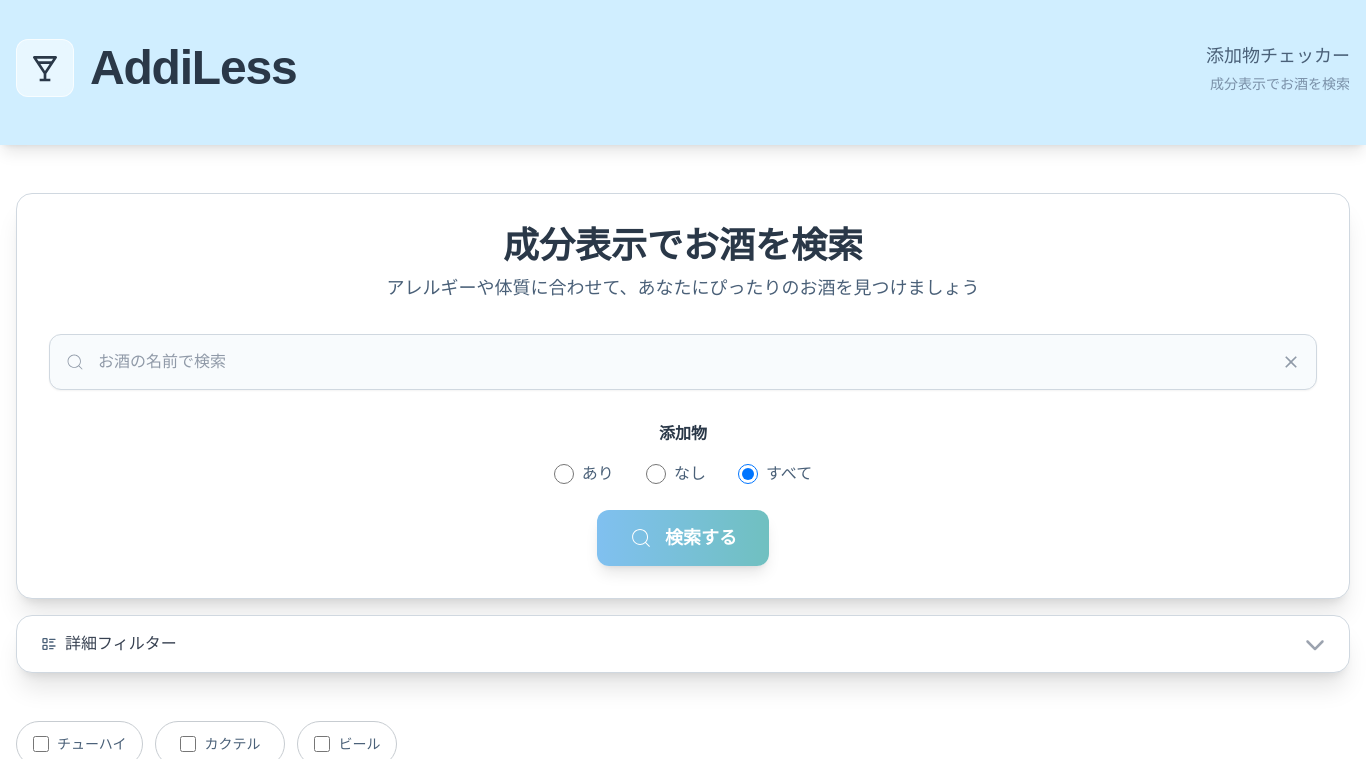
Test: AdditivesSearch › 添加物選択ドロップダウンが表示されている
What coordinates should you click on to do the following:
click the button with test id "detail_filter_button"
I would click on:
 (121, 644)
Its box is [17, 616, 1349, 672].
(page scrolled)
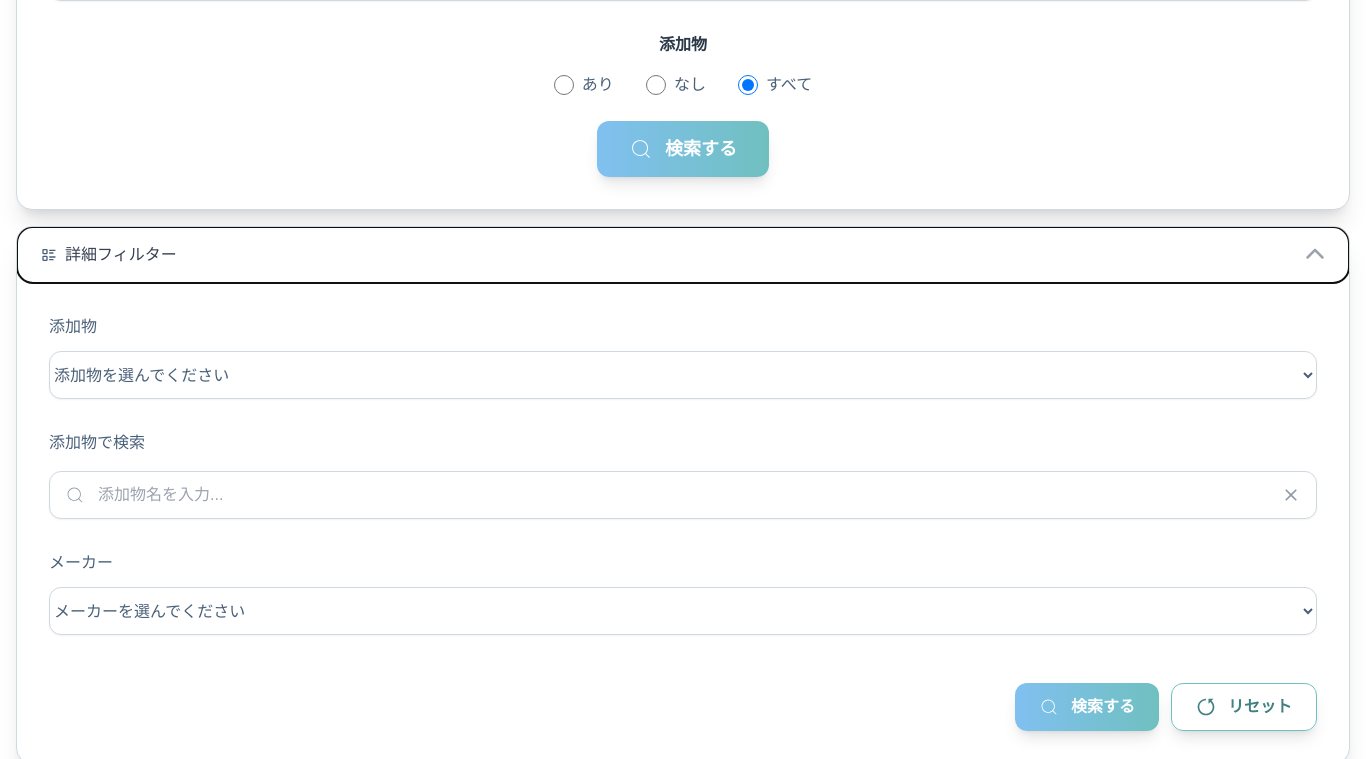
Expected: the dropdown with test id "select_additives" is shown, [49, 351, 1317, 399]
